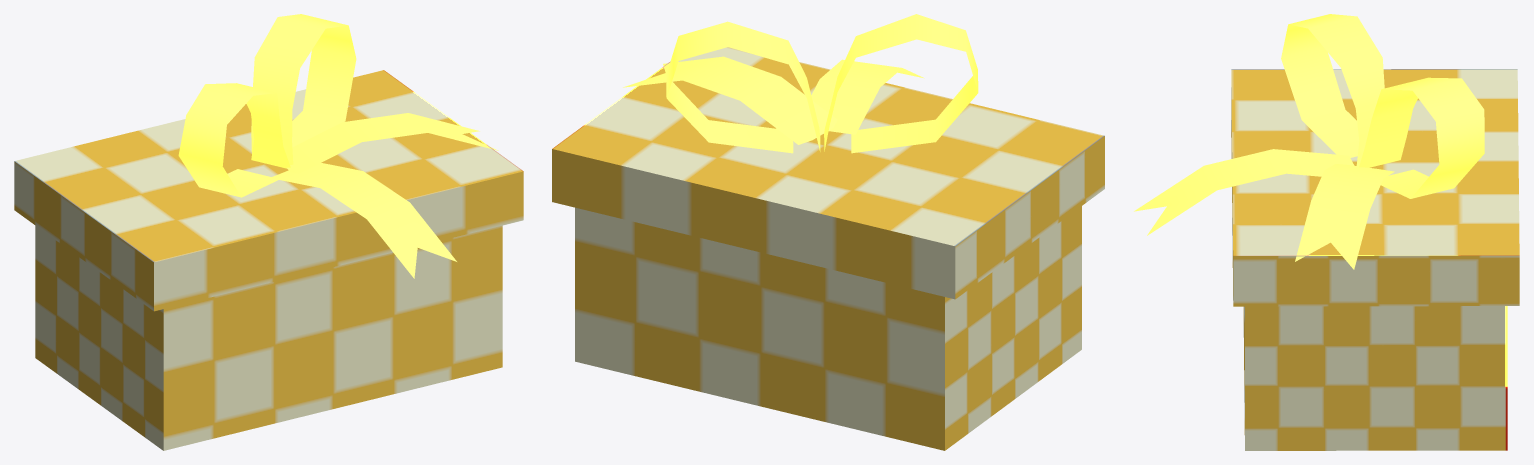
The model's file is Present02_Art.fbx.
3 renders of one model, left to right at view 1: azimuth 30°, elevation 25°; view 2: azimuth 150°, elevation 25°; view 3: azimuth 270°, elevation 25°, orthographic. The views are drawn at different scales.
Visible parts, largest first — view 1: Present02_Art; view 2: Present02_Art; view 3: Present02_Art.
Boxes of the visible parts, bbox=[...] form: Present02_Art: bbox=[14, 14, 523, 450]; Present02_Art: bbox=[552, 14, 1104, 450]; Present02_Art: bbox=[1134, 14, 1519, 450].
Size of the model in its own units: 1.39 by 1.04 by 1.17.
